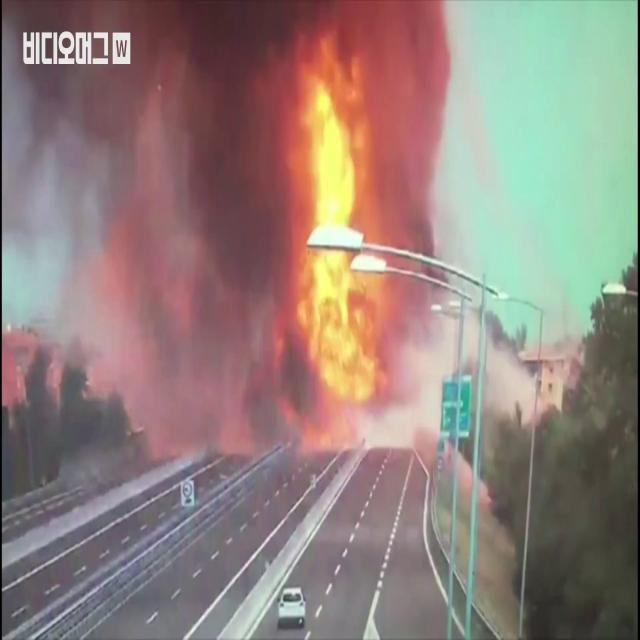explosion: (105, 0, 575, 603)
